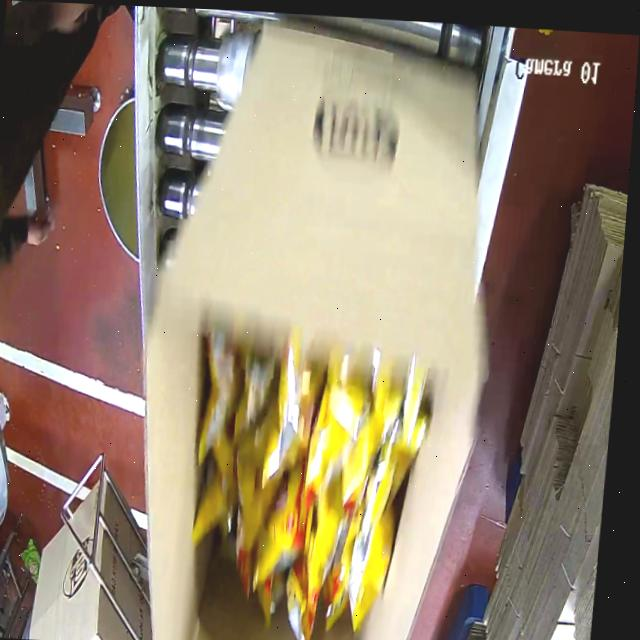SALTED: (164, 354, 419, 633)
